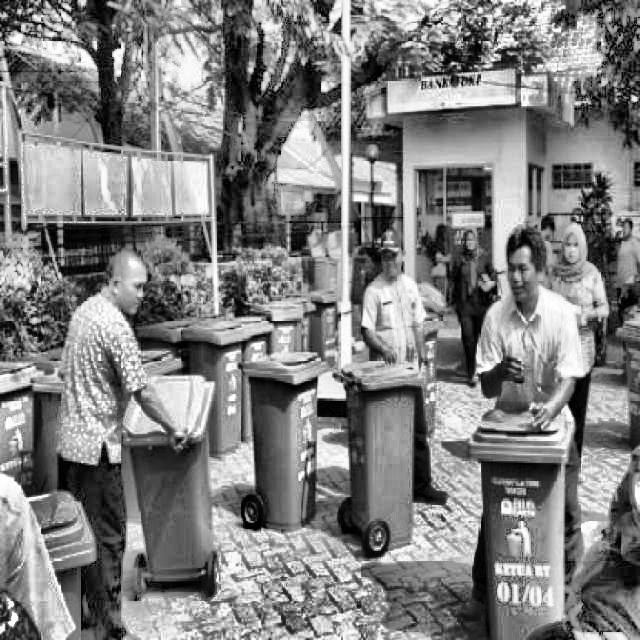Dustbin: (466, 400, 582, 638), (122, 370, 220, 608), (333, 354, 429, 560), (235, 350, 338, 541), (28, 488, 101, 638), (1, 350, 44, 496)
